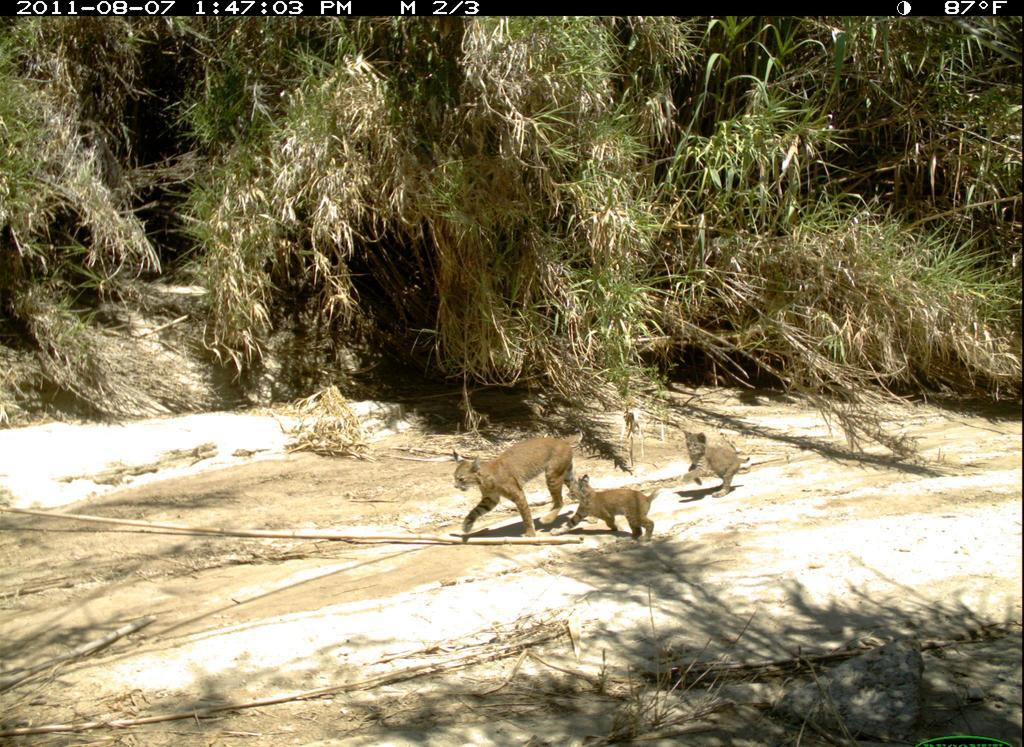bobcat: (436, 406, 600, 557), (560, 468, 665, 552), (679, 428, 753, 500)
